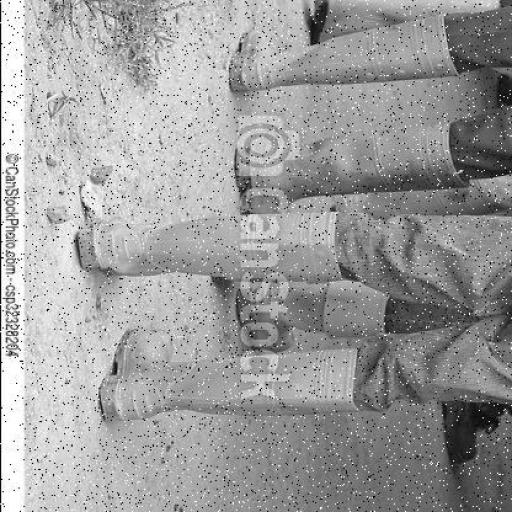safety_shoe: (98, 332, 356, 429), (76, 208, 345, 288), (234, 128, 464, 212), (223, 16, 455, 96), (233, 287, 393, 342)
